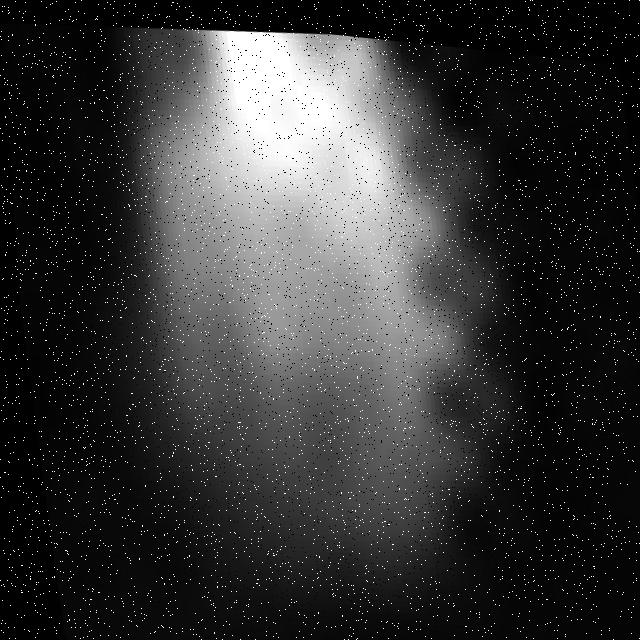person: (100, 9, 480, 640)
